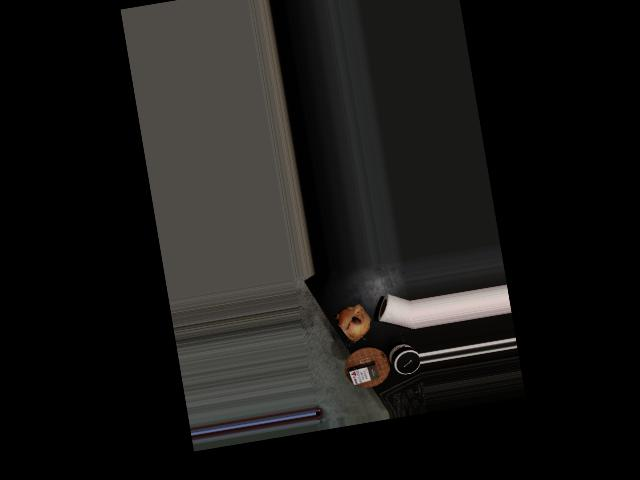onion: (332, 301, 374, 345)
